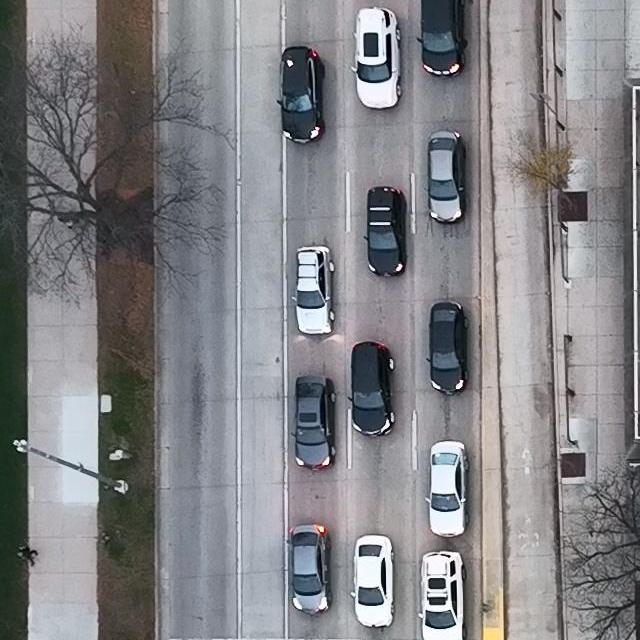car: (351, 7, 403, 110), (275, 45, 324, 145), (348, 341, 396, 438), (417, 551, 468, 640), (290, 376, 337, 472), (425, 439, 470, 537), (350, 533, 395, 629), (286, 524, 332, 616), (425, 301, 470, 394), (416, 0, 469, 77), (291, 245, 337, 333), (424, 129, 467, 223), (364, 185, 407, 278)
